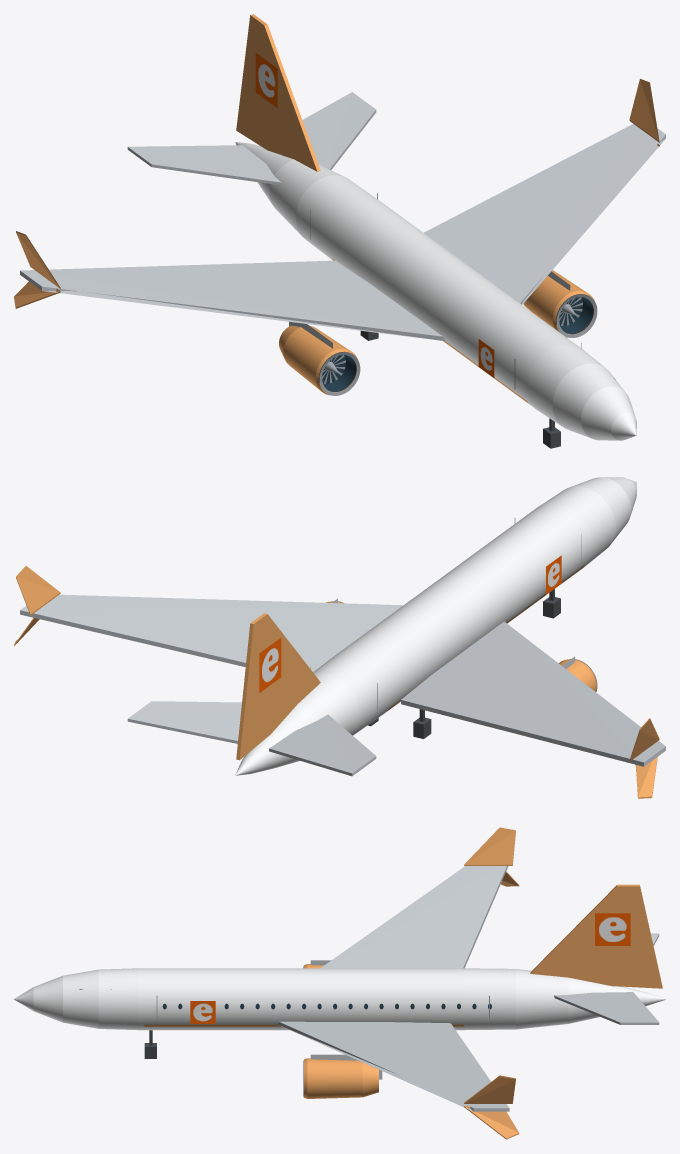
File: b737max-EZY-v3.gltf
3 views of the same model, one above another, from view 1: azimuth 30°, elevation 25°; view 2: azimuth 150°, elevation 25°; view 3: azimuth 270°, elevation 25° (orthographic). The views are drawn at different scales.
Parts seen in each view (by area): view 1: object 1; view 2: object 1, Gear; view 3: object 1.
Part boxes in pixels (x1,y1,x2,y2): object 1: (14,14,665,440); object 1: (14,477,665,798); Gear: (368,589,560,738); object 1: (14,827,665,1139).
Bounding box in the file's own units: 36.72 × 11.6 × 40.
Materials: 8 (1 with a texture image).
